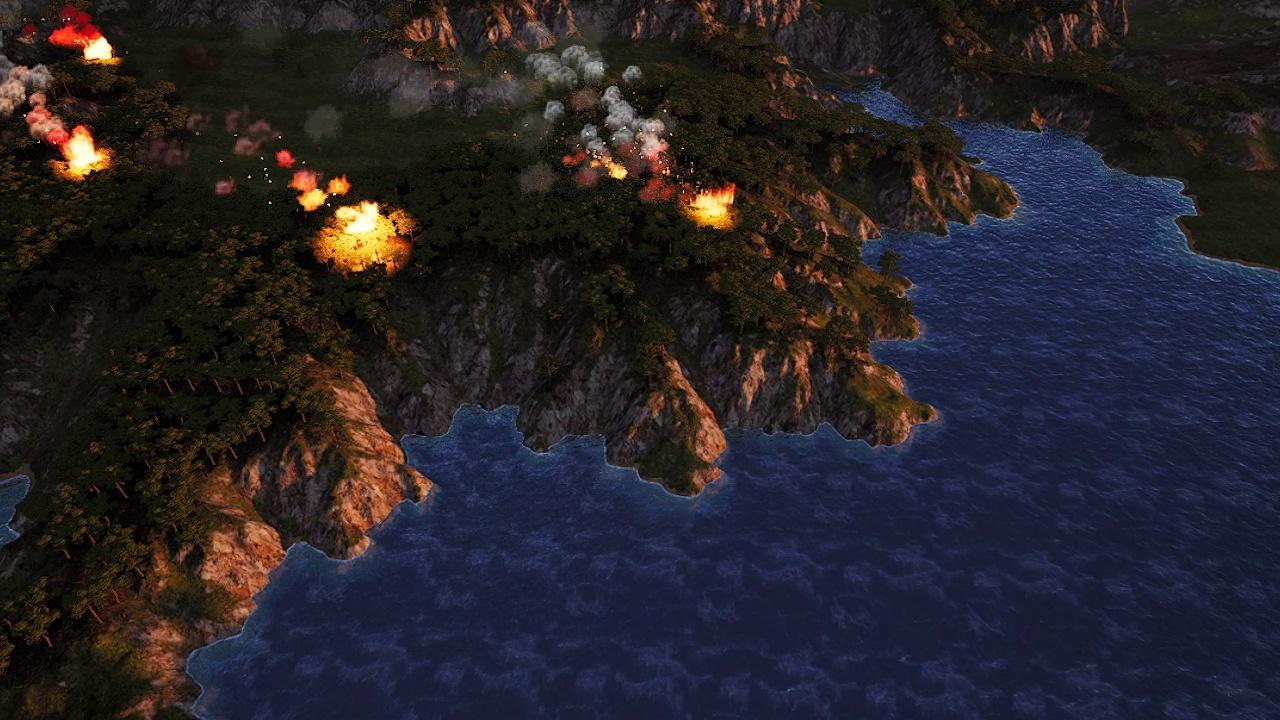fire: (322, 200, 407, 268), (61, 130, 108, 174), (691, 186, 736, 224), (87, 34, 117, 64), (608, 163, 628, 180)
smoke: (523, 41, 679, 184), (216, 108, 351, 210), (0, 56, 63, 143), (48, 5, 96, 45)
